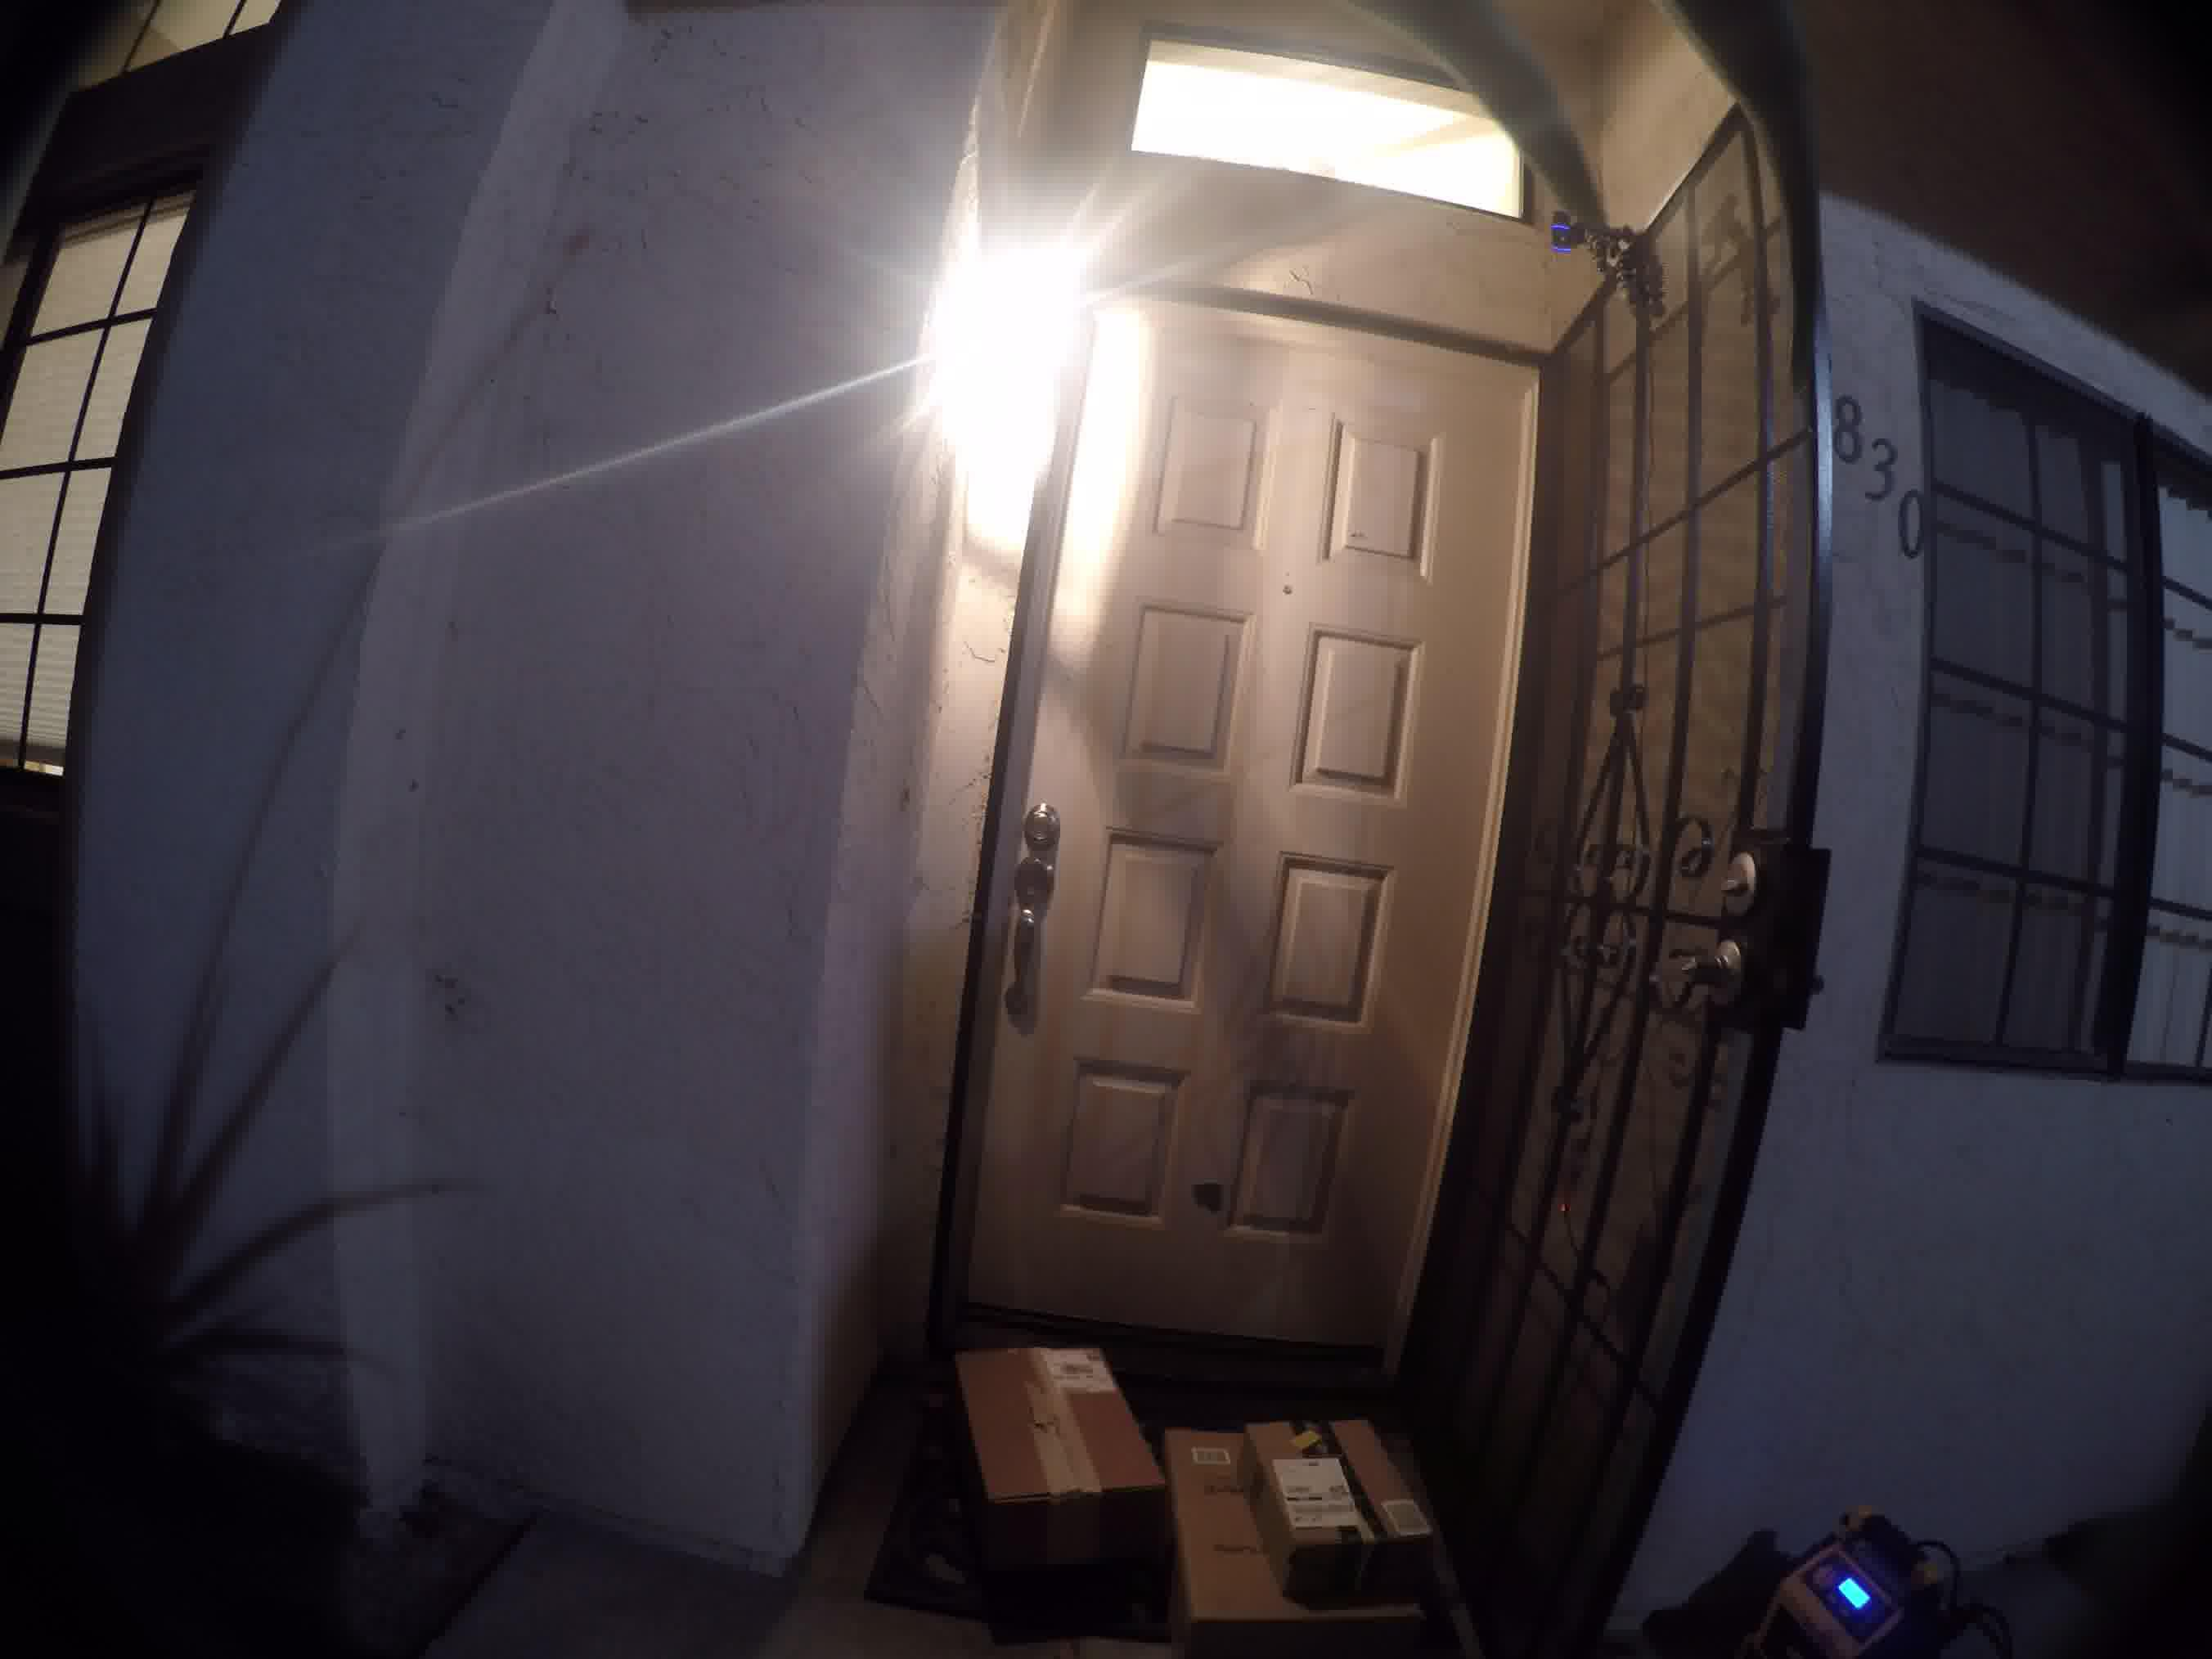box: (1158, 1413, 1458, 1650), (944, 1331, 1167, 1577), (1235, 1406, 1444, 1603)
